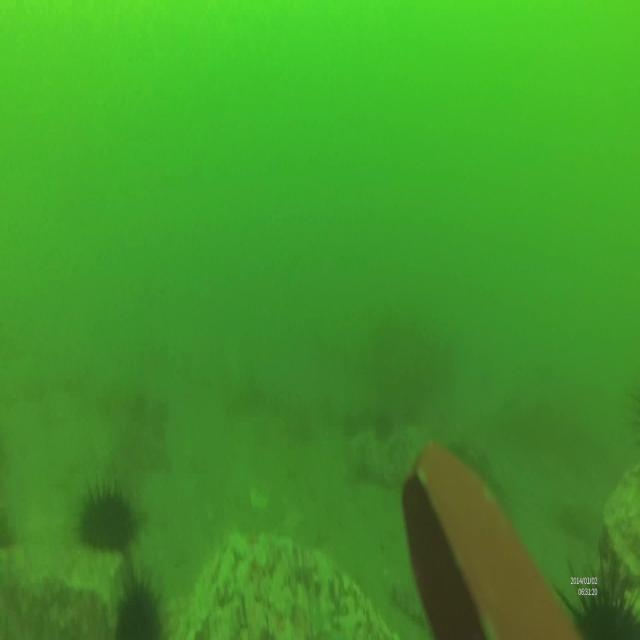echinus: (558, 558, 639, 640), (76, 485, 140, 556), (116, 575, 166, 640)
